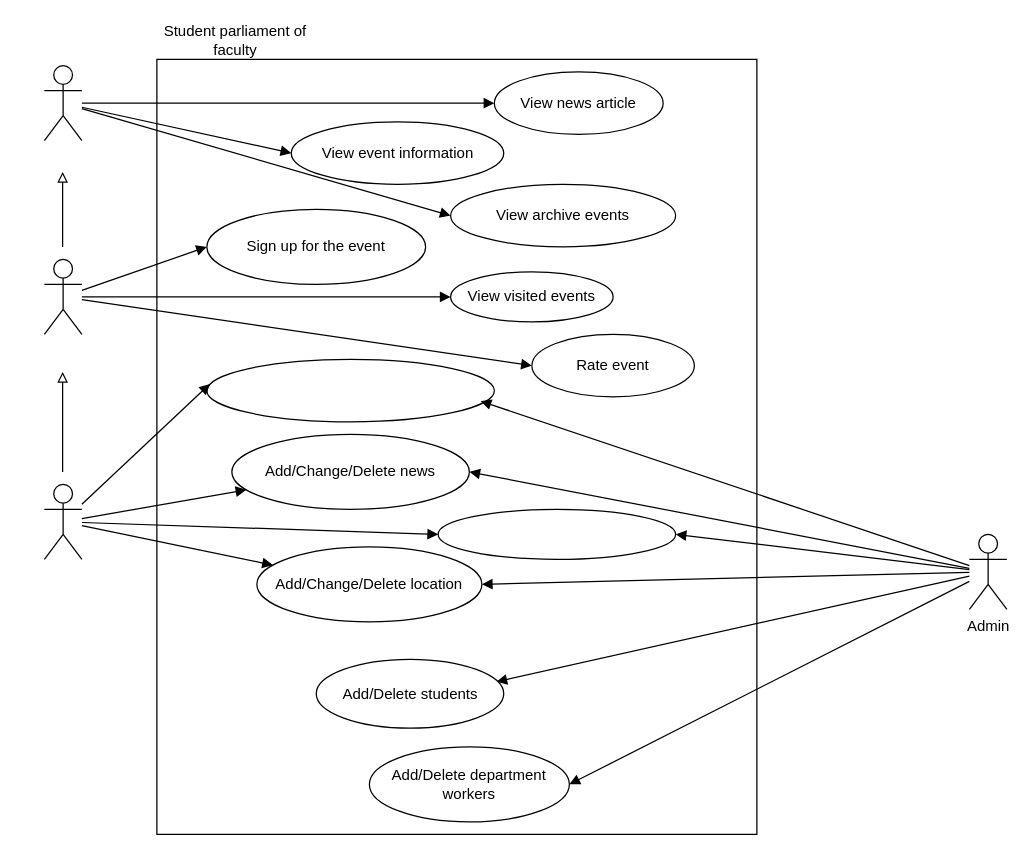
Some shapes in this 1031 by 856 pixel diagram are drawn without their labels. The shapes that lost their labels are listed below. From the top down, each one's centre as x and y in pixels, then its label:
At point (62, 102): "Guest".
At point (62, 296): "Student".
At point (350, 390): "Change department information".
At point (62, 521): "Department worker".
At point (556, 533): "Add /Change/Delete events".
